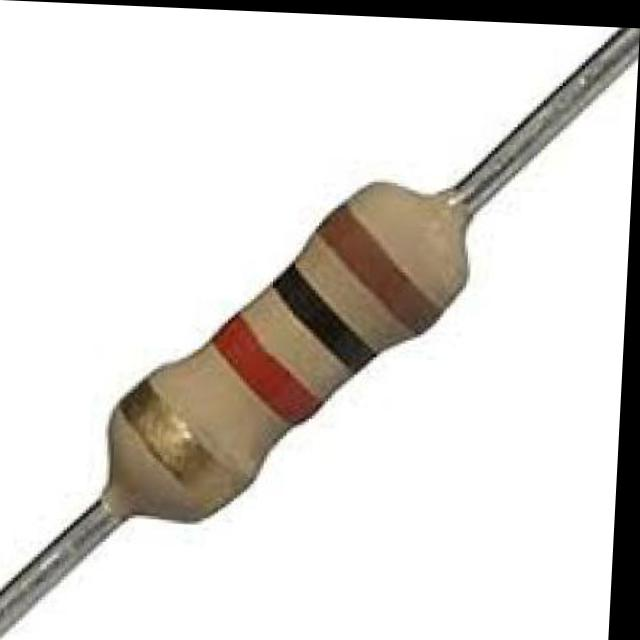Capacitor: (0, 22, 640, 640)
